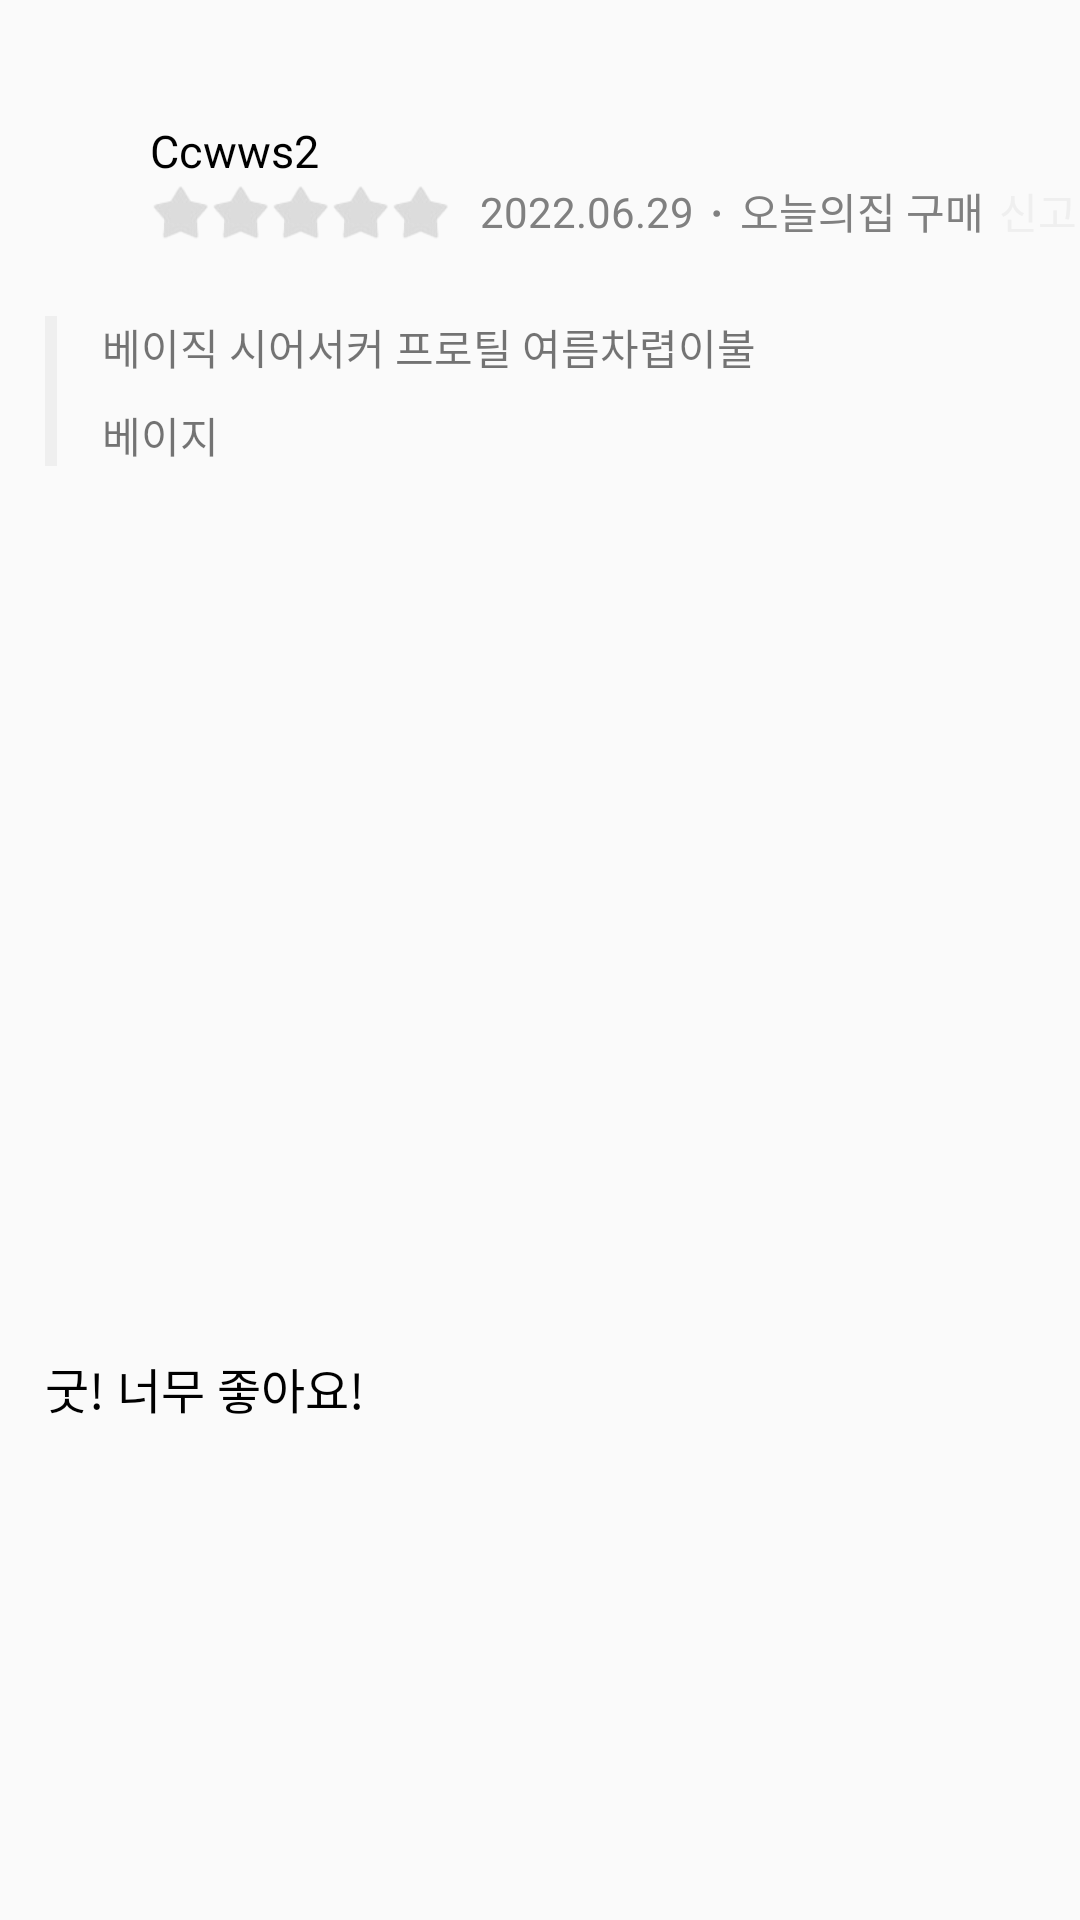

Where icons sit on this 1080px x 1920px app screen, as [x1,y1,x2,y2]:
unstart: [155,188,206,237], [215,188,266,237], [275,188,326,237], [335,188,386,237], [395,188,446,237]
